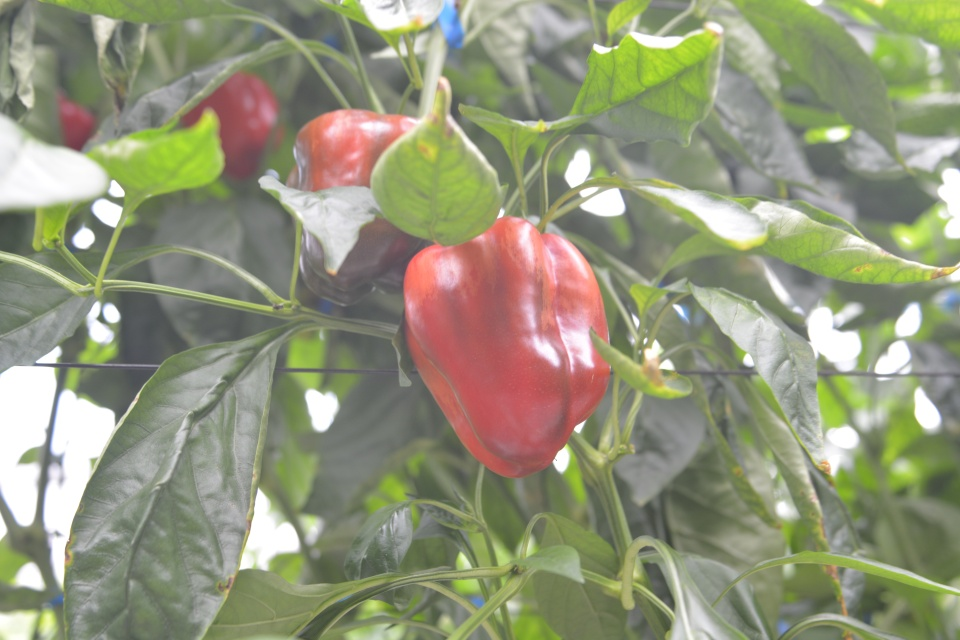fruit: (400, 213, 613, 481), (285, 104, 436, 309), (180, 68, 286, 182)
